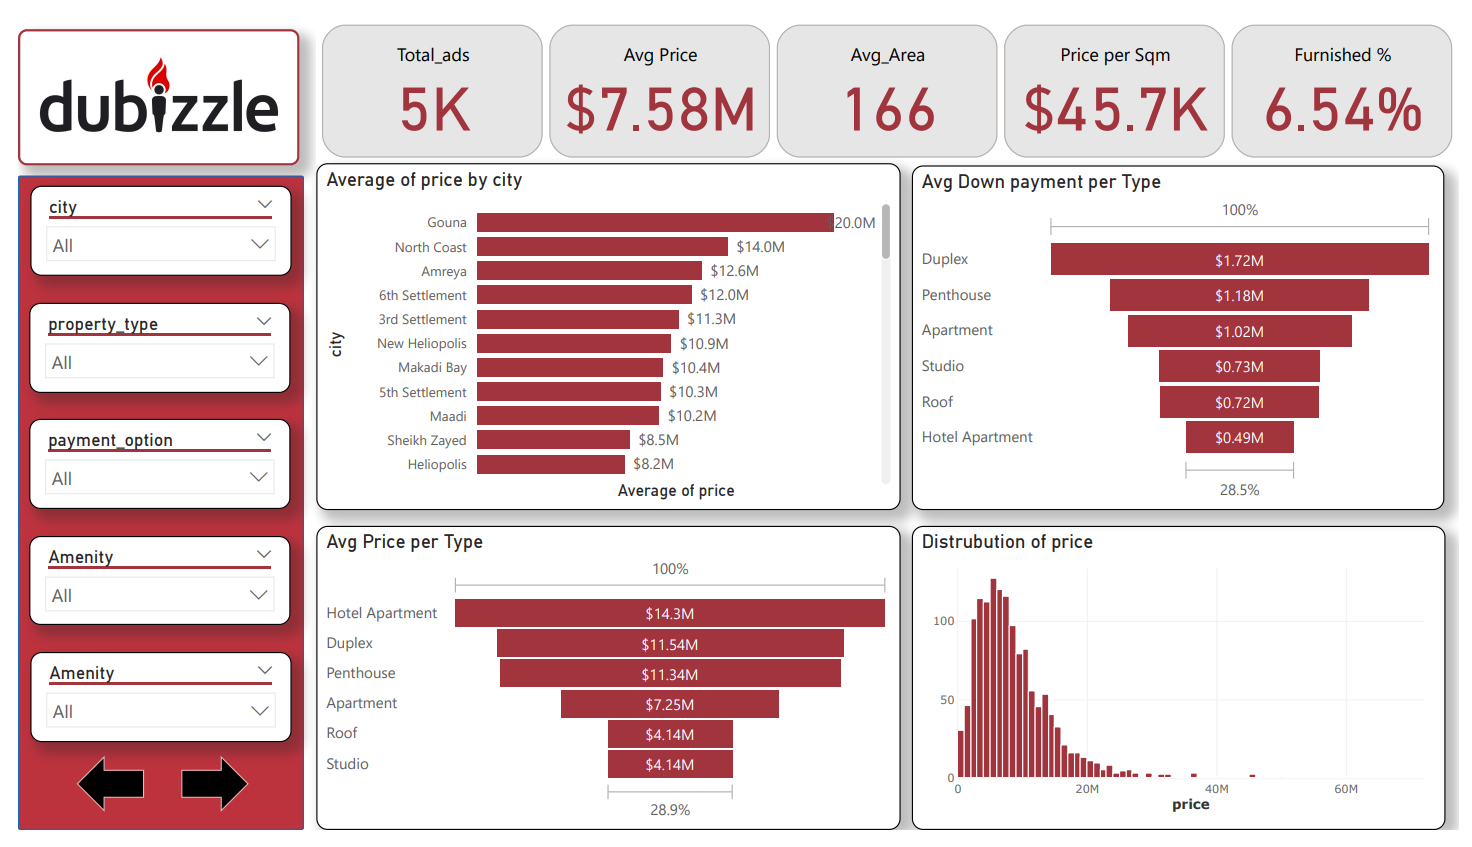

What the dashboard file says about the page in this screenshot:
{"tool":"powerbi","page":{"name":"Price","canvas":[1280,720],"ordinal":1},"visuals":[{"type":"image","box":[0,8.6,250.3,121.5],"z":0},{"type":"cardVisual","fields":{"Data":["Dax.Total_ads","Dax.Avg Price","Dax.Avg_Area","Dax.Price per Sqm","Dax.Furnished %"]},"box":[265,0,1014.7,128.8],"z":1000},{"type":"shape","box":[0,138.7,254,581.6],"z":2000},{"type":"barChart","fields":{"Category":["Dubizzle_properties.city"],"Y":["Avg(Dubizzle_properties.price)"]},"box":[265,127.6,519,308],"z":3000},{"type":"funnel","title":"Avg Price per Type","fields":{"Category":["Dubizzle_properties.property_type"],"Y":["Avg(Dubizzle_properties.price)"]},"box":[265,450.3,519,269.9],"z":4000},{"type":"slicer","fields":{"Values":["Dubizzle_properties.city"]},"box":[11,148.5,231.9,79.8],"z":5000},{"type":"slicer","fields":{"Values":["Dubizzle_properties.property_type"]},"box":[9.8,251.8,231.9,79.8],"z":6000},{"type":"slicer","fields":{"Values":["Dubizzle_properties.payment_option"]},"box":[10.1,355.2,231.9,79.8],"z":7000},{"type":"slicer","fields":{"Values":["AmenitiesTable.Amenity"]},"box":[10.4,458.6,231.9,79.8],"z":8000},{"type":"slicer","fields":{"Values":["AmenitiesTable.Amenity"]},"box":[10.7,562,231.9,79.8],"z":9000},{"type":"shape","box":[144.8,654,60.1,50.3],"z":10000},{"type":"shape","box":[51.5,654,60.1,50.3],"z":11000},{"type":"histogramF963F133BA02A0B35D286F09F80E9C78","title":"Distrubution of price","fields":{"col_2":["Dubizzle_properties.price"]},"box":[794,450,474,270],"z":12000},{"type":"funnel","title":"Avg Down payment per Type","fields":{"Category":["Dubizzle_properties.property_type"],"Y":["Avg(Dubizzle_properties.down_payment)"]},"box":[793.9,130.1,473.6,305.5],"z":13000}]}

Visuals, with their boxes in screenshot pixels (x1, y1, x2, y2), scaled from the page's 1280x720 canvas onto the 1472x847 screenshot:
image: 0:10:288:153
cardVisual - Dax.Total_ads x Dax.Avg Price: 305:0:1471:152
shape: 0:163:292:846
barChart - Dubizzle_properties.city x Avg(Dubizzle_properties.price): 305:150:902:512
"Avg Price per Type" funnel: 305:530:902:846
slicer - Dubizzle_properties.city: 13:175:279:269
slicer - Dubizzle_properties.property_type: 11:296:278:390
slicer - Dubizzle_properties.payment_option: 12:418:278:512
slicer - AmenitiesTable.Amenity: 12:539:279:633
slicer - AmenitiesTable.Amenity: 12:661:279:755
shape: 167:769:236:829
shape: 59:769:128:829
"Distrubution of price" histogramF963F133BA02A0B35D286F09F80E9C78: 913:529:1458:846
"Avg Down payment per Type" funnel: 913:153:1458:512
